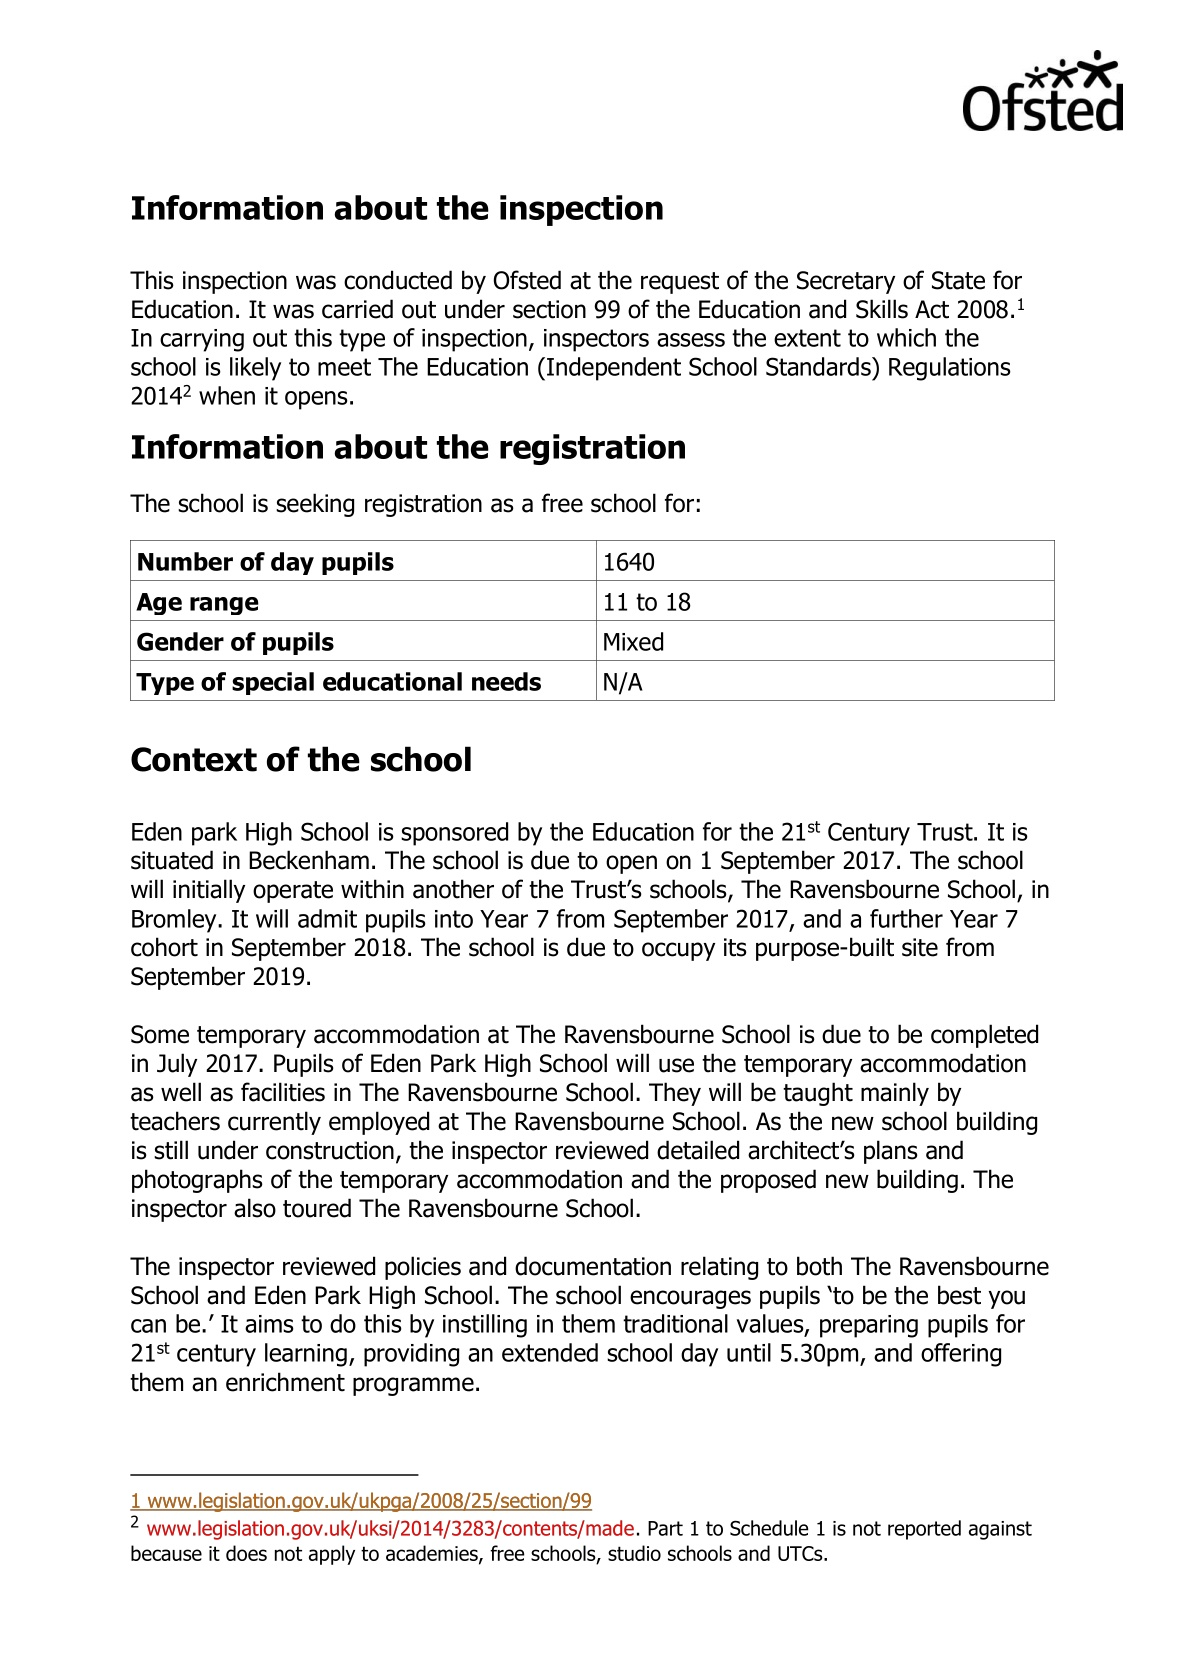full_lined: (129, 539, 1055, 701)
